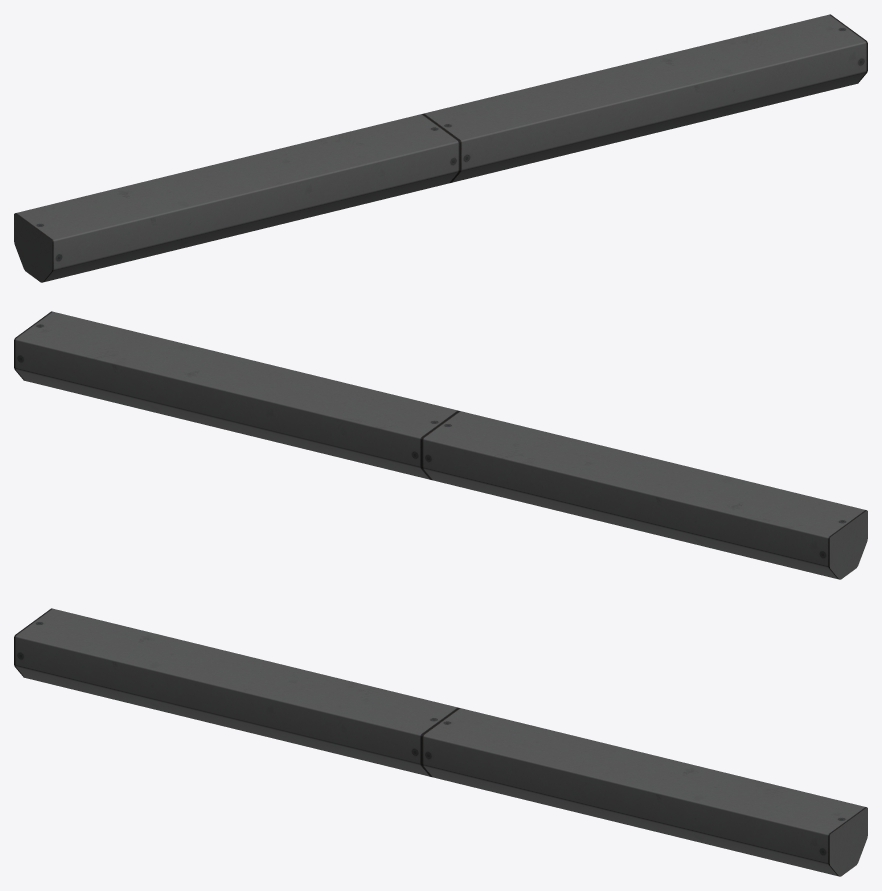
Rendered from Subway_wall_edge2.fbx.
3 renders of one model, top to bottom at view 1: azimuth 30°, elevation 25°; view 2: azimuth 150°, elevation 25°; view 3: azimuth 330°, elevation 25°, orthographic.
Parts seen in each view (by area): view 1: pCube76; view 2: pCube76; view 3: pCube76.
Part boxes in pixels (bbox=[...]): pCube76: bbox=[14, 14, 867, 282]; pCube76: bbox=[14, 311, 867, 579]; pCube76: bbox=[14, 608, 867, 876].
Bounding box in the file's own units: 400 × 23.57 × 32.61.
